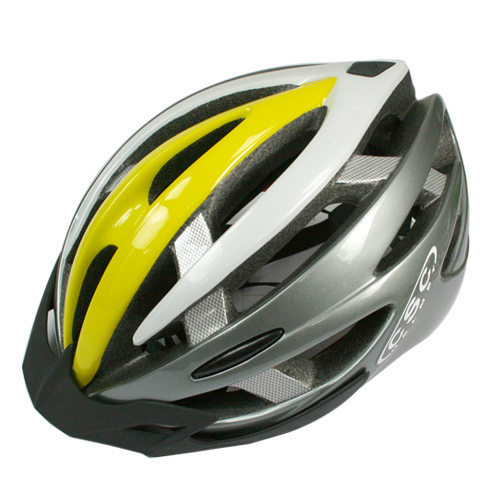helmet: (18, 67, 451, 405)
